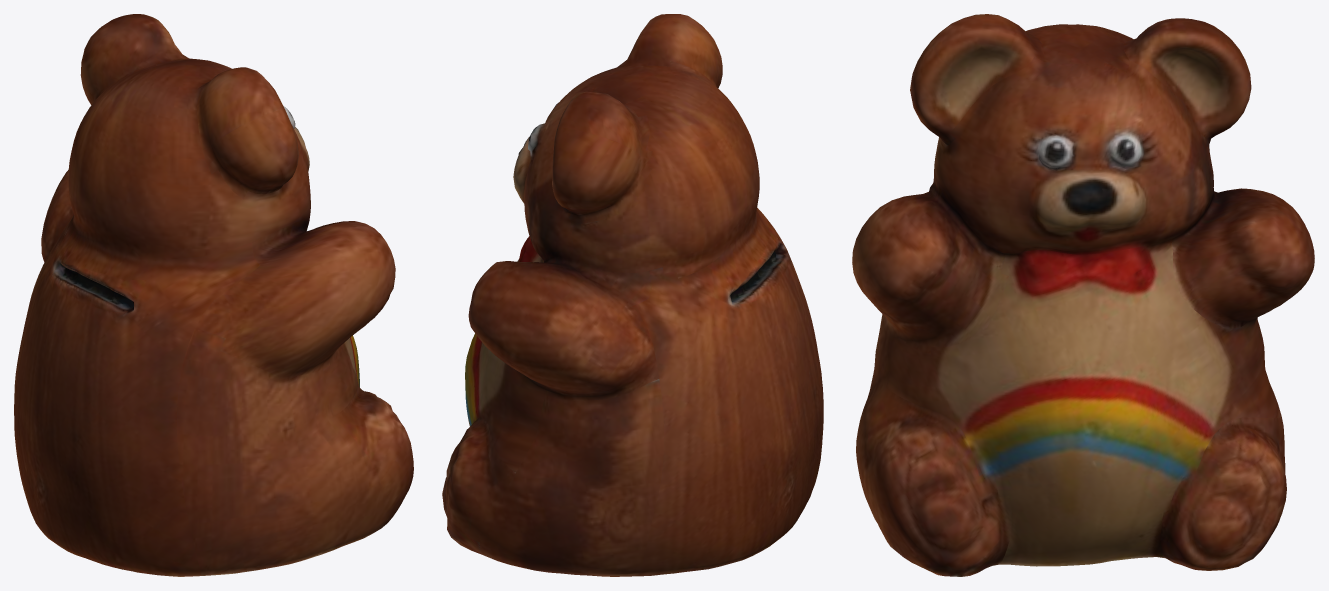
The picture shows the model from 3 angles, left to right: view 1: azimuth 30°, elevation 25°; view 2: azimuth 150°, elevation 25°; view 3: azimuth 270°, elevation 25°; orthographic projection. The views are drawn at different scales.
Parts seen in each view (by area): view 1: ScareBear_LP; view 2: ScareBear_LP; view 3: ScareBear_LP.
Part boxes in pixels (bbox=[...]): ScareBear_LP: bbox=[14, 14, 413, 576]; ScareBear_LP: bbox=[442, 14, 823, 576]; ScareBear_LP: bbox=[852, 14, 1314, 576].
Bounding box in the file's own units: 21.9 × 31.64 × 26.38.
Materials: 1 (1 with a texture image).
